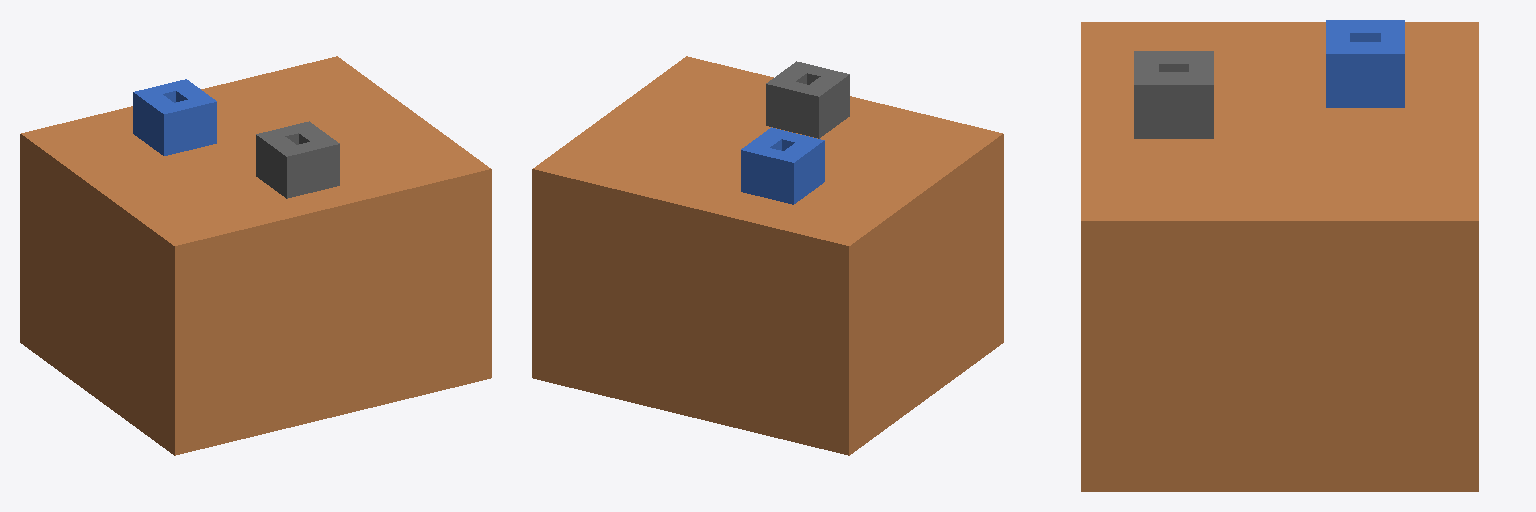
The robot description file, URDF, robot "peg_in_hole_fixtured_scene_0025_peg0001_tol00":
<?xml version="1.0"?>
<robot name="peg_in_hole_fixtured_scene_0025_peg0001_tol00">
  <material name="wood"><color rgba="0.82 0.56 0.35 1.0"/></material>
  <material name="start_fix"><color rgba="0.30 0.50 0.85 1.0"/></material>
  <material name="goal_fix"><color rgba="0.4706 0.4706 0.4706 1.0"/></material>
  <link name="box">
    <visual>
      <origin xyz="0.000000 0.000000 0.000000" rpy="0 0 0"/>
      <geometry><box size="0.475000 0.400000 0.300000"/></geometry>
      <material name="wood"/>
    </visual>
    <collision>
      <origin xyz="0.000000 0.000000 0.000000" rpy="0 0 0"/>
      <geometry><box size="0.475000 0.400000 0.300000"/></geometry>
    </collision>
    <visual>
      <origin xyz="-0.071432 0.085799 0.155000" rpy="0 0 0"/>
      <geometry><box size="0.080000 0.080000 0.010000"/></geometry>
      <material name="start_fix"/>
    </visual>
    <collision>
      <origin xyz="-0.071432 0.085799 0.155000" rpy="0 0 0"/>
      <geometry><box size="0.080000 0.080000 0.010000"/></geometry>
    </collision>
    <visual>
      <origin xyz="-0.046182 0.085799 0.185000" rpy="0 0 0"/>
      <geometry><box size="0.029500 0.080000 0.050000"/></geometry>
      <material name="start_fix"/>
    </visual>
    <collision>
      <origin xyz="-0.046182 0.085799 0.185000" rpy="0 0 0"/>
      <geometry><box size="0.029500 0.080000 0.050000"/></geometry>
    </collision>
    <visual>
      <origin xyz="-0.096682 0.085799 0.185000" rpy="0 0 0"/>
      <geometry><box size="0.029500 0.080000 0.050000"/></geometry>
      <material name="start_fix"/>
    </visual>
    <collision>
      <origin xyz="-0.096682 0.085799 0.185000" rpy="0 0 0"/>
      <geometry><box size="0.029500 0.080000 0.050000"/></geometry>
    </collision>
    <visual>
      <origin xyz="-0.071432 0.113549 0.185000" rpy="0 0 0"/>
      <geometry><box size="0.021000 0.024500 0.050000"/></geometry>
      <material name="start_fix"/>
    </visual>
    <collision>
      <origin xyz="-0.071432 0.113549 0.185000" rpy="0 0 0"/>
      <geometry><box size="0.021000 0.024500 0.050000"/></geometry>
    </collision>
    <visual>
      <origin xyz="-0.071432 0.058049 0.185000" rpy="0 0 0"/>
      <geometry><box size="0.021000 0.024500 0.050000"/></geometry>
      <material name="start_fix"/>
    </visual>
    <collision>
      <origin xyz="-0.071432 0.058049 0.185000" rpy="0 0 0"/>
      <geometry><box size="0.021000 0.024500 0.050000"/></geometry>
    </collision>
    <visual>
      <origin xyz="0.001543 -0.106398 0.155000" rpy="0 0 0"/>
      <geometry><box size="0.080000 0.080000 0.010000"/></geometry>
      <material name="goal_fix"/>
    </visual>
    <collision>
      <origin xyz="0.001543 -0.106398 0.155000" rpy="0 0 0"/>
      <geometry><box size="0.080000 0.080000 0.010000"/></geometry>
    </collision>
    <visual>
      <origin xyz="0.026619 -0.106398 0.185000" rpy="0 0 0"/>
      <geometry><box size="0.029848 0.080000 0.050000"/></geometry>
      <material name="goal_fix"/>
    </visual>
    <collision>
      <origin xyz="0.026619 -0.106398 0.185000" rpy="0 0 0"/>
      <geometry><box size="0.029848 0.080000 0.050000"/></geometry>
    </collision>
    <visual>
      <origin xyz="-0.023533 -0.106398 0.185000" rpy="0 0 0"/>
      <geometry><box size="0.029848 0.080000 0.050000"/></geometry>
      <material name="goal_fix"/>
    </visual>
    <collision>
      <origin xyz="-0.023533 -0.106398 0.185000" rpy="0 0 0"/>
      <geometry><box size="0.029848 0.080000 0.050000"/></geometry>
    </collision>
    <visual>
      <origin xyz="0.001543 -0.078822 0.185000" rpy="0 0 0"/>
      <geometry><box size="0.020304 0.024848 0.050000"/></geometry>
      <material name="goal_fix"/>
    </visual>
    <collision>
      <origin xyz="0.001543 -0.078822 0.185000" rpy="0 0 0"/>
      <geometry><box size="0.020304 0.024848 0.050000"/></geometry>
    </collision>
    <visual>
      <origin xyz="0.001543 -0.133974 0.185000" rpy="0 0 0"/>
      <geometry><box size="0.020304 0.024848 0.050000"/></geometry>
      <material name="goal_fix"/>
    </visual>
    <collision>
      <origin xyz="0.001543 -0.133974 0.185000" rpy="0 0 0"/>
      <geometry><box size="0.020304 0.024848 0.050000"/></geometry>
    </collision>
    <inertial>
      <mass value="500"/>
      <friction value="1.0"/>
      <inertia ixx="1000.0" ixy="0.0" ixz="0.0" iyy="1000.0" iyz="0.0" izz="1000.0"/>
    </inertial>
  </link>
</robot>

--- Render facts (derived) ---
Views: 3 orthographic renders of the robot side by side, from view 1: azimuth 30°, elevation 25°; view 2: azimuth 150°, elevation 25°; view 3: azimuth 270°, elevation 25°.
Robot: peg_in_hole_fixtured_scene_0025_peg0001_tol00 — 1 links, 0 joints (none); root link box; default pose: all joints at 0.
Links seen in each view (by area): view 1: box; view 2: box; view 3: box.
Link boxes in pixels (bbox=[...]): box: bbox=[20, 56, 491, 455]; box: bbox=[532, 56, 1003, 455]; box: bbox=[1081, 20, 1478, 491].
Bounding box of the posed robot: 0.475 × 0.4 × 0.36 m (x, y, z).
Geometry: primitives only (box / cylinder / sphere), no mesh files.
